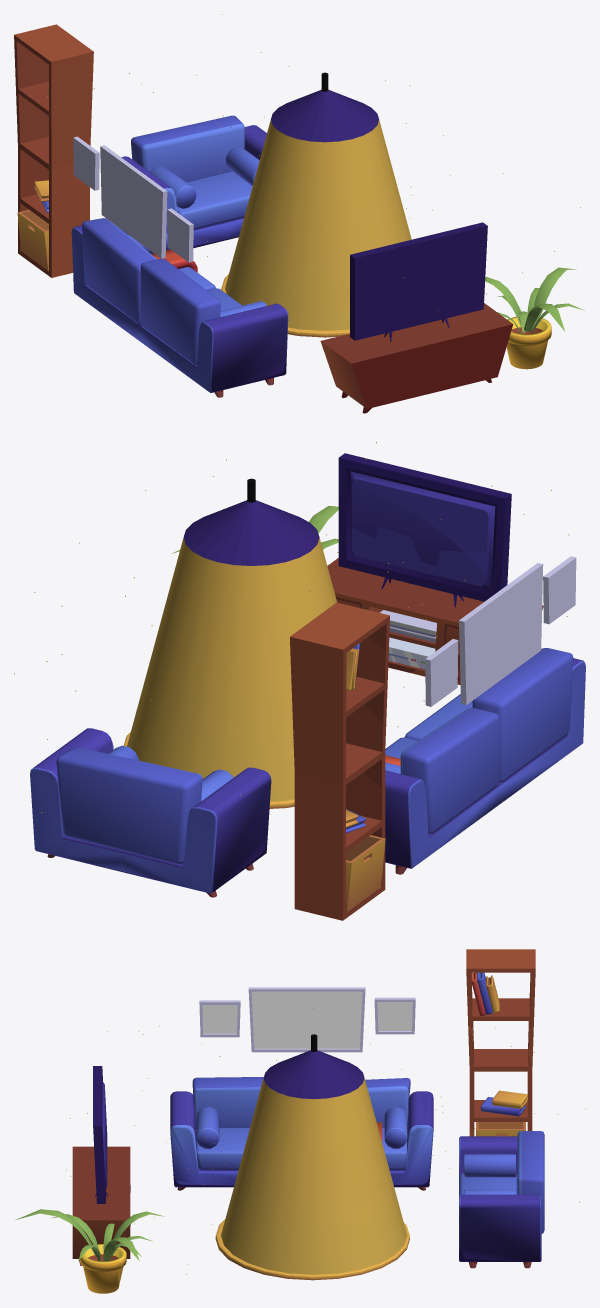
The model's file is livingroom.fbx.
The picture shows the model from 3 angles, top to bottom: view 1: azimuth 30°, elevation 25°; view 2: azimuth 150°, elevation 25°; view 3: azimuth 270°, elevation 25°; orthographic projection. The views are drawn at different scales.
Visible parts, largest first — view 1: Light, Couch, BookShelves, Tv_Table, Tv, S_Couch, Paints, Lamb, Plant, Circle; view 2: Light, BookShelves, S_Couch, Couch, Tv, Paints, Tv_Table, Lamb; view 3: Light, Couch, S_Couch, Paints, BookShelves, Tv_Table, Lamb, Plant, Tv, Circle.
Boxes of the visible parts, x1=… form: Light: x1=225, y1=119, x2=411, y2=330; Couch: x1=71, y1=218, x2=288, y2=397; BookShelves: x1=14, y1=24, x2=93, y2=277; Tv_Table: x1=320, y1=303, x2=513, y2=413; Tv: x1=350, y1=222, x2=487, y2=341; S_Couch: x1=121, y1=115, x2=266, y2=249; Paints: x1=73, y1=136, x2=193, y2=262; Lamb: x1=271, y1=72, x2=378, y2=142; Plant: x1=485, y1=267, x2=584, y2=369; Circle: x1=221, y1=274, x2=349, y2=337; Light: x1=127, y1=538, x2=336, y2=801; BookShelves: x1=290, y1=602, x2=389, y2=920; S_Couch: x1=30, y1=728, x2=271, y2=897; Couch: x1=385, y1=648, x2=585, y2=874; Tv: x1=338, y1=453, x2=511, y2=607; Paints: x1=425, y1=556, x2=576, y2=706; Tv_Table: x1=327, y1=558, x2=543, y2=685; Lamb: x1=183, y1=478, x2=319, y2=565; Light: x1=221, y1=1078, x2=407, y2=1274; Couch: x1=170, y1=1077, x2=433, y2=1190; S_Couch: x1=459, y1=1131, x2=544, y2=1268; Paints: x1=199, y1=987, x2=415, y2=1052; BookShelves: x1=466, y1=949, x2=535, y2=1136; Tv_Table: x1=72, y1=1146, x2=130, y2=1265; Lamb: x1=263, y1=1034, x2=364, y2=1099; Plant: x1=16, y1=1209, x2=164, y2=1293; Tv: x1=93, y1=1066, x2=107, y2=1203; Circle: x1=215, y1=1219, x2=409, y2=1280.
Size of the model in its own units: 478 by 282 by 692.
